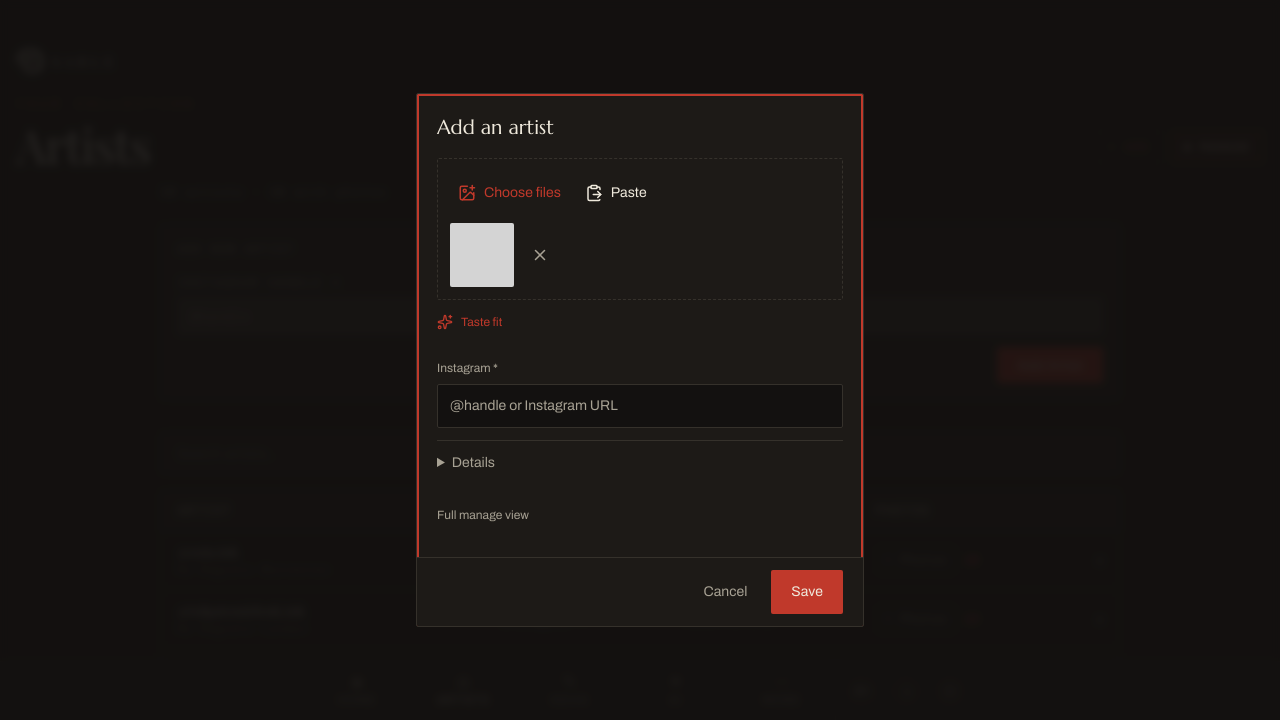
root and pipeline routes › uses the canonical form and shared photo at the Gallery landing
The image size is (1280, 720).
Expected: the dialog "Add an artist" is shown, x1=416 y1=93 x2=864 y2=627
Click the button "Cancel" at (725, 592), box x1=692 y1=570 x2=759 y2=614
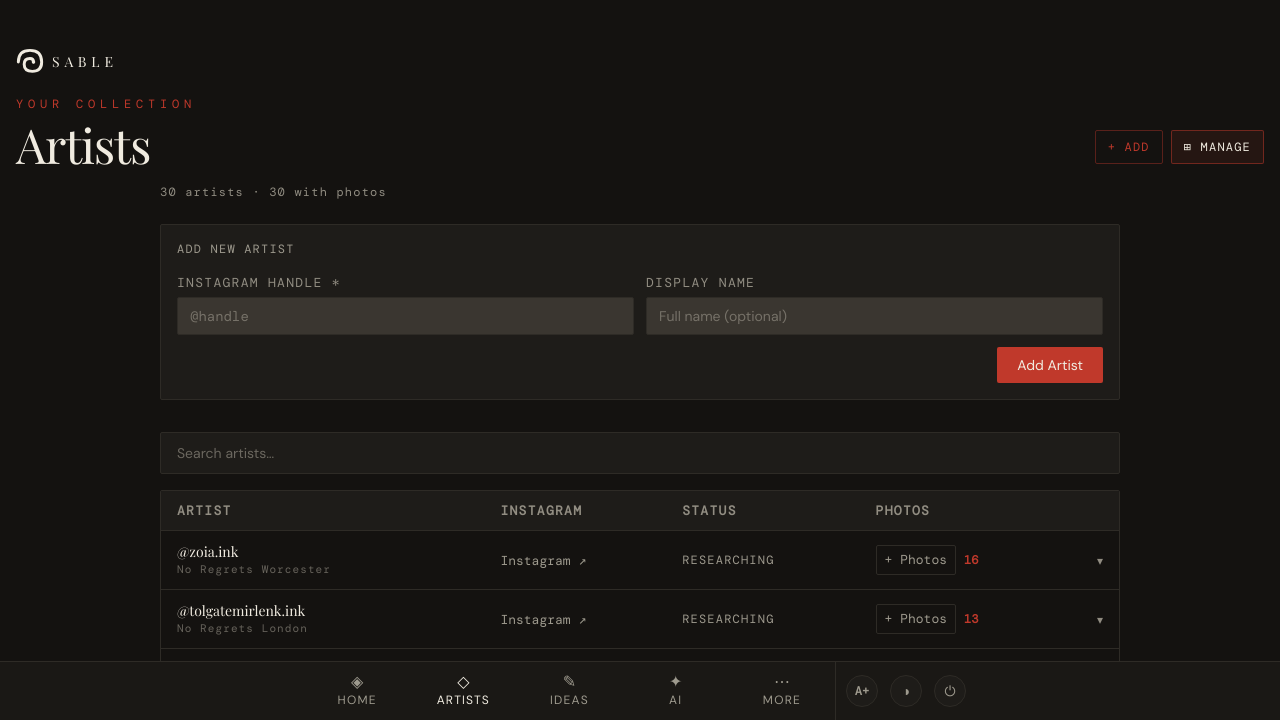
Expected: the text "Add New Artist" is shown, x1=177 y1=241 x2=295 y2=257
Expected: the heading "Add an artist" is gone
